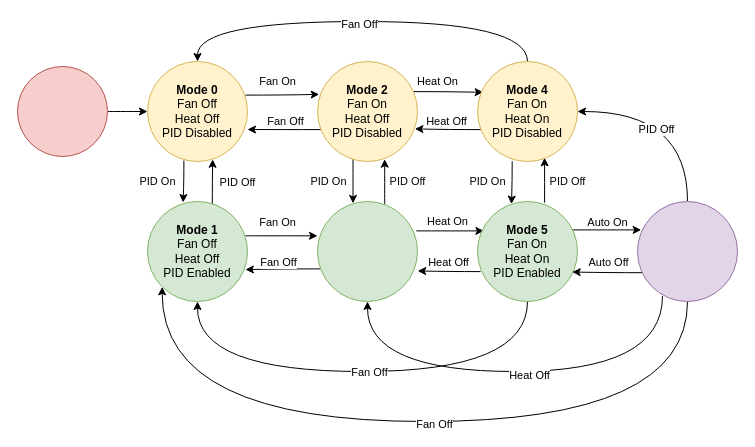
This 755x447 diagram has some shape labels left out. Each missing label, with the box of its shape:
Mode 3 Fan On Heat Off PID Enabled: (316, 200, 418, 302)
Mode 6 Fan On Heat On PID Enabled Auto Enabled: (636, 200, 738, 302)
Startup: (16, 66, 108, 156)
